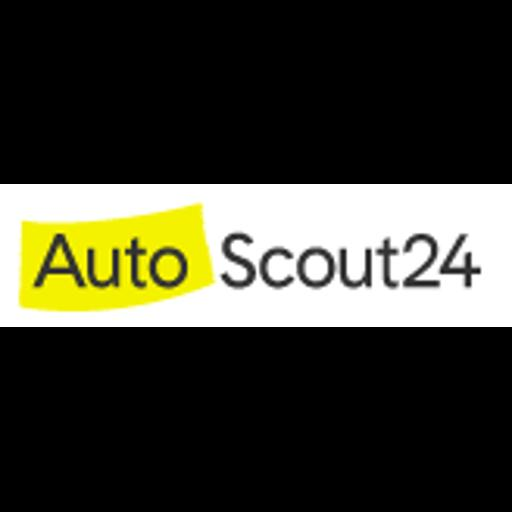AutoScout24: (0, 184, 512, 327)
